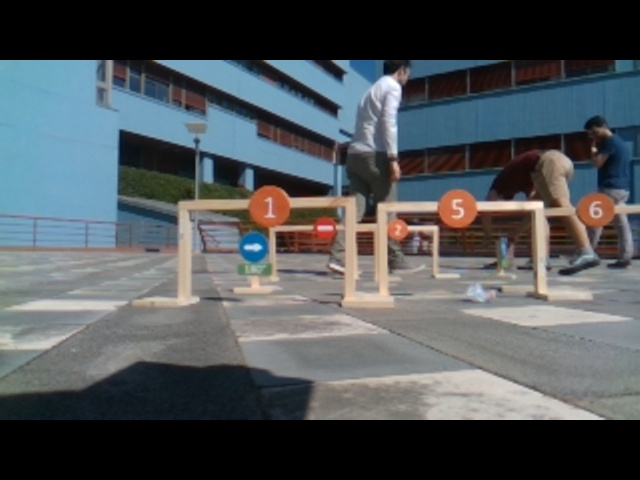180_degree: (233, 260, 272, 277)
arrow_right: (237, 230, 270, 261)
checkpoint_foot: (530, 281, 596, 301), (137, 289, 198, 310), (341, 293, 397, 310), (432, 268, 460, 279)
checkpoint_side: (174, 195, 197, 297), (338, 190, 361, 292), (371, 194, 394, 296), (528, 195, 549, 294)
checkpoint_signal: (375, 199, 545, 217), (174, 194, 360, 208), (546, 205, 640, 219), (272, 223, 346, 235)
denied: (310, 212, 341, 240)
five: (435, 188, 481, 228)
one: (245, 183, 294, 228)
six: (575, 191, 616, 229)
two: (388, 216, 413, 242)
